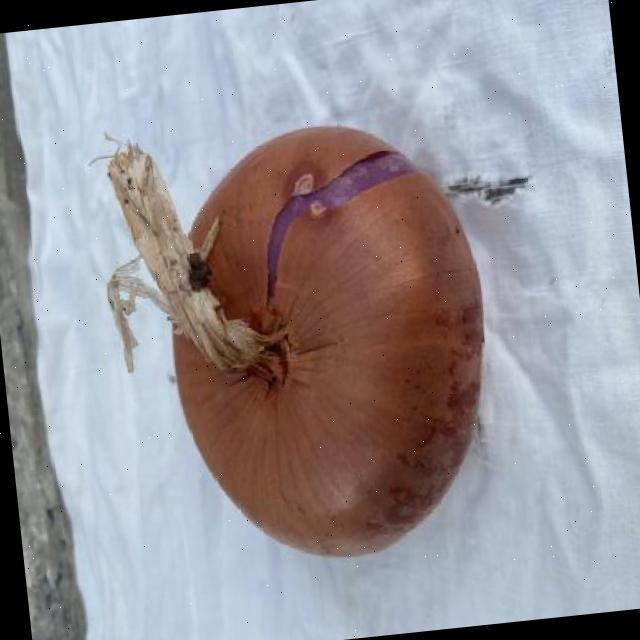Onion: (108, 124, 483, 555)
